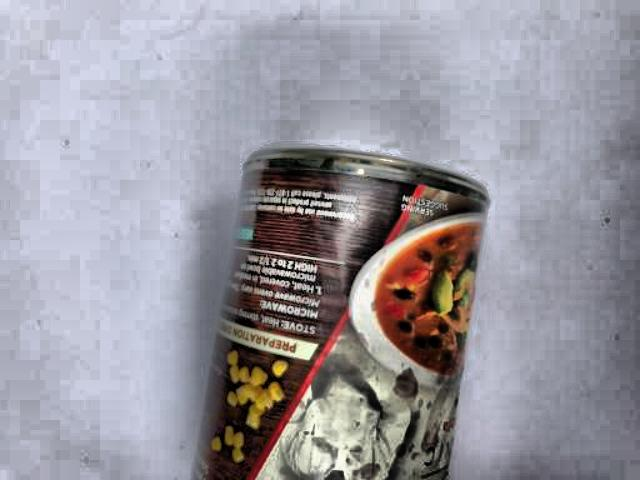Almennt: (156, 114, 489, 480)
